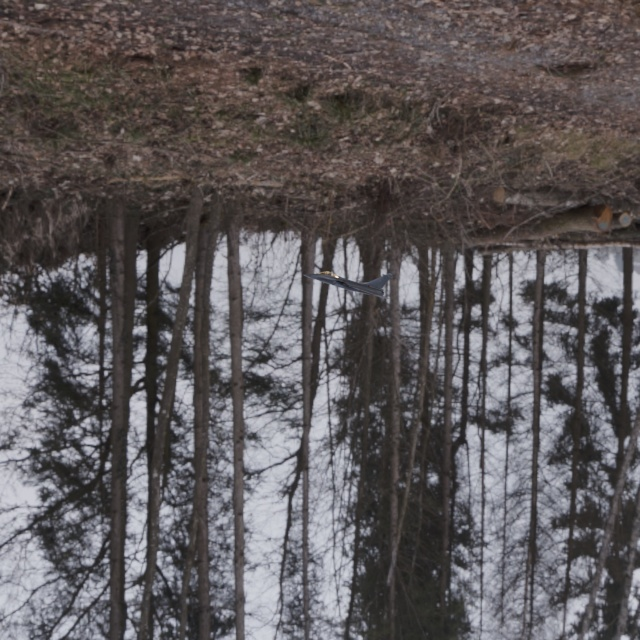dassault_rafale: (290, 249, 408, 305)
